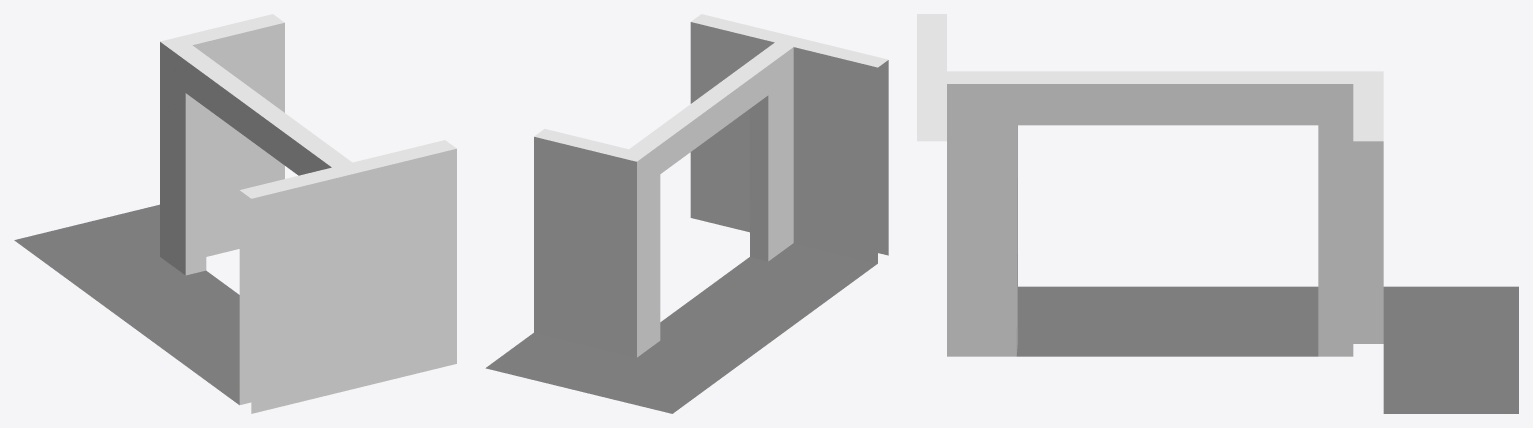
File: Elevator_Door_Corner.fbx
3 renders of one model, left to right at view 1: azimuth 30°, elevation 25°; view 2: azimuth 150°, elevation 25°; view 3: azimuth 270°, elevation 25°, orthographic. The views are drawn at different scales.
Parts seen in each view (by area): view 1: Corner_Elevator; view 2: Corner_Elevator; view 3: Corner_Elevator.
Boxes of the visible parts, <box> form: Corner_Elevator: <box>14,14,456,413</box>; Corner_Elevator: <box>485,14,888,413</box>; Corner_Elevator: <box>917,14,1518,413</box>.
Bounding box in the file's own units: 200 × 200 × 400.
